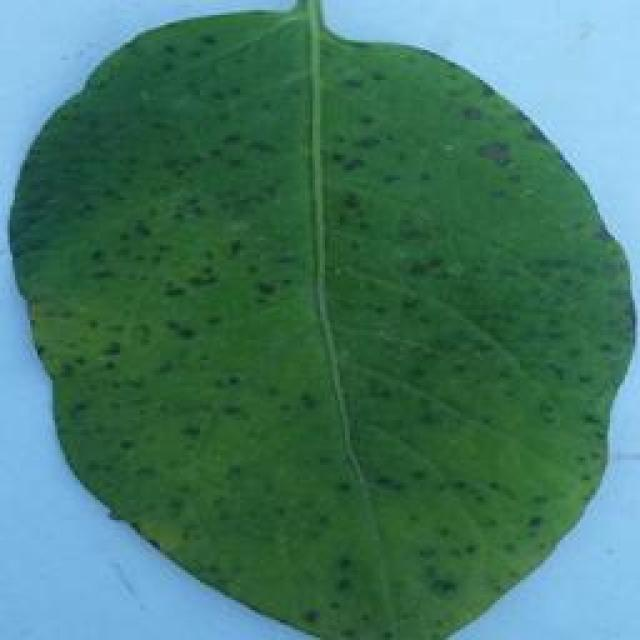Potato_Early_Blight: (12, 15, 640, 635)
